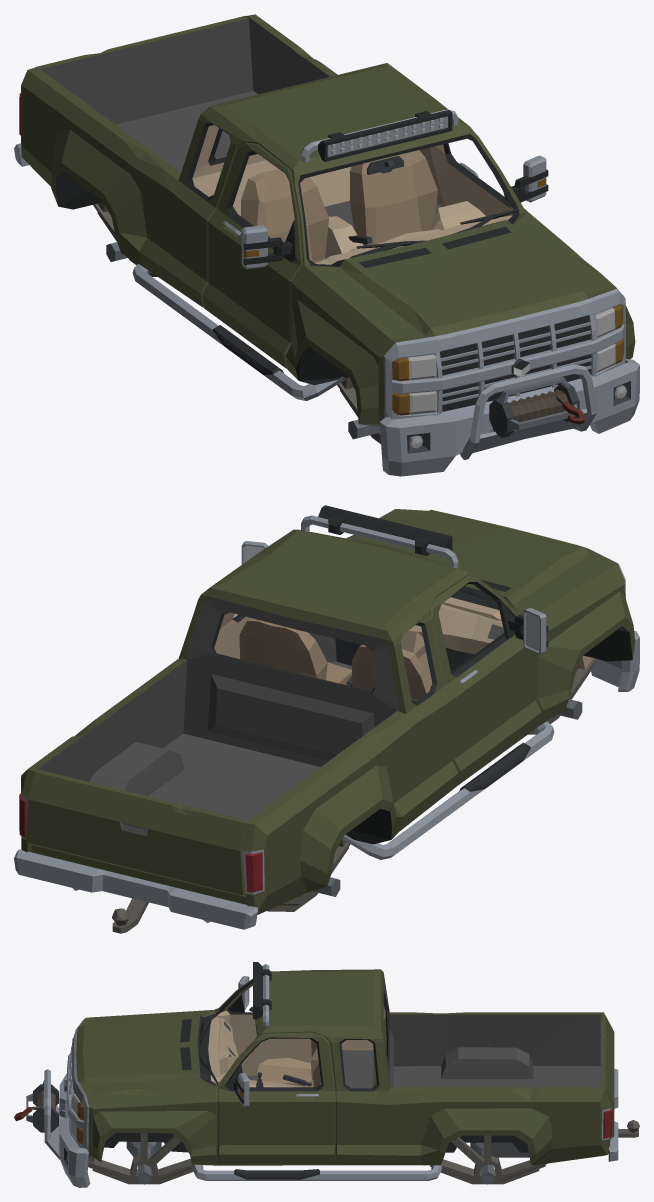
The model's file is SM_Veh_Pickup_01.obj.
3 views of the same model, one above another, from view 1: azimuth 30°, elevation 25°; view 2: azimuth 150°, elevation 25°; view 3: azimuth 270°, elevation 25° (orthographic). The views are drawn at different scales.
Parts seen in each view (by area): view 1: SM_Veh_Pickup_01_0; view 2: SM_Veh_Pickup_01_0; view 3: SM_Veh_Pickup_01_0.
Boxes of the visible parts, x1,y1,x2,y2 form: SM_Veh_Pickup_01_0: [14, 14, 639, 476]; SM_Veh_Pickup_01_0: [14, 505, 639, 933]; SM_Veh_Pickup_01_0: [14, 962, 639, 1187].
Size of the model in its own units: 2.55 by 1.96 by 6.41.
Materials: 1 (1 with a texture image).
